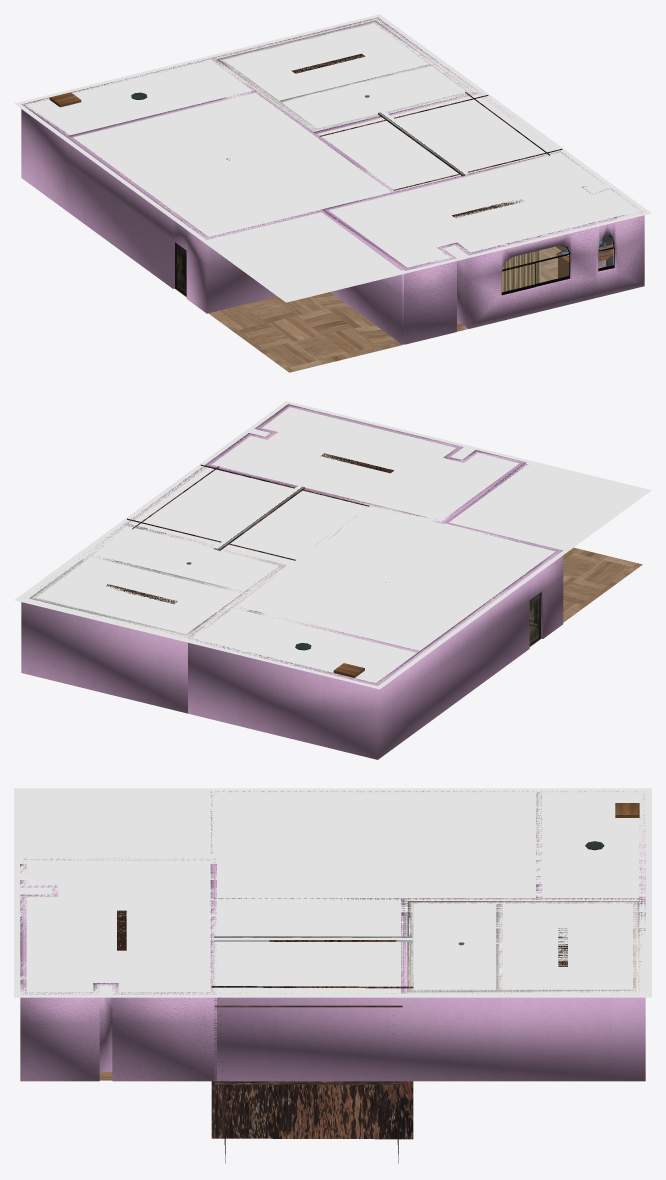
Rendered from DoriHome.glb.
3 views of the same model, one above another, from view 1: azimuth 30°, elevation 25°; view 2: azimuth 150°, elevation 25°; view 3: azimuth 270°, elevation 25° (orthographic). The views are drawn at different scales.
Visible parts, largest first — view 1: techo, wall, walls, floor, wall.001, curtain, wdw.003, wdw.002, wall.002, wdw.001, Plane.009; view 2: techo, wall, floor, walls, wall.001, wall.002, Plane.009; view 3: techo, wall, walls, 平面.004, wall.001, wall.002, 平面.001, 平面.005.
Boxes of the visible parts, <box> form: techo: <box>14,14,651,302</box>; wall: <box>21,17,544,344</box>; walls: <box>322,151,644,344</box>; floor: <box>175,246,605,372</box>; wall.001: <box>217,20,474,131</box>; curtain: <box>501,250,540,292</box>; wdw.003: <box>501,262,535,295</box>; wdw.002: <box>535,254,569,286</box>; wall.002: <box>378,111,468,176</box>; wdw.001: <box>502,245,570,270</box>; Plane.009: <box>175,243,186,296</box>; techo: <box>14,401,651,689</box>; wall: <box>21,463,563,759</box>; floor: <box>530,547,642,646</box>; walls: <box>204,404,526,523</box>; wall.001: <box>29,538,286,637</box>; wall.002: <box>213,485,304,550</box>; Plane.009: <box>529,593,540,646</box>; techo: <box>14,788,651,997</box>; wall: <box>128,791,645,1081</box>; walls: <box>20,858,216,1081</box>; 平面.004: <box>211,986,413,1139</box>; wall.001: <box>407,901,639,992</box>; wall.002: <box>214,936,412,941</box>; 平面.001: <box>214,1081,402,1084</box>; 平面.005: <box>214,1005,402,1007</box>.
Bounding box in the file's own units: 15.6 × 5.98 × 20.1.
23 materials, 21 textured.
